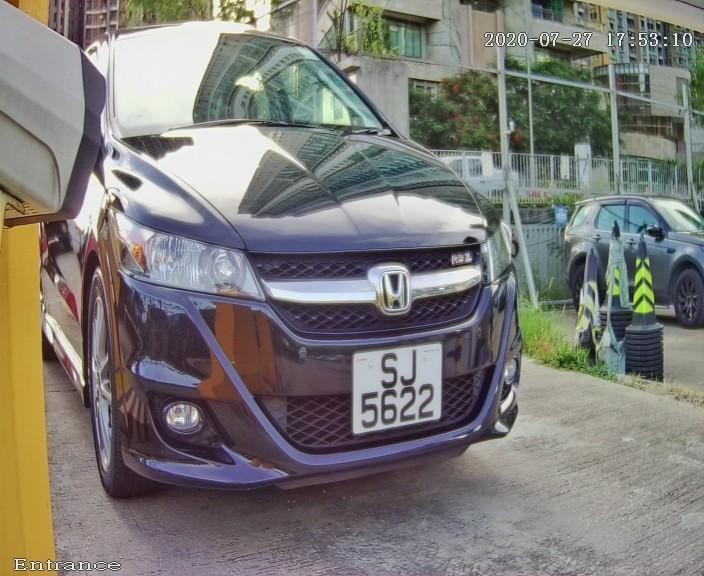privatecar: (26, 1, 598, 551)
